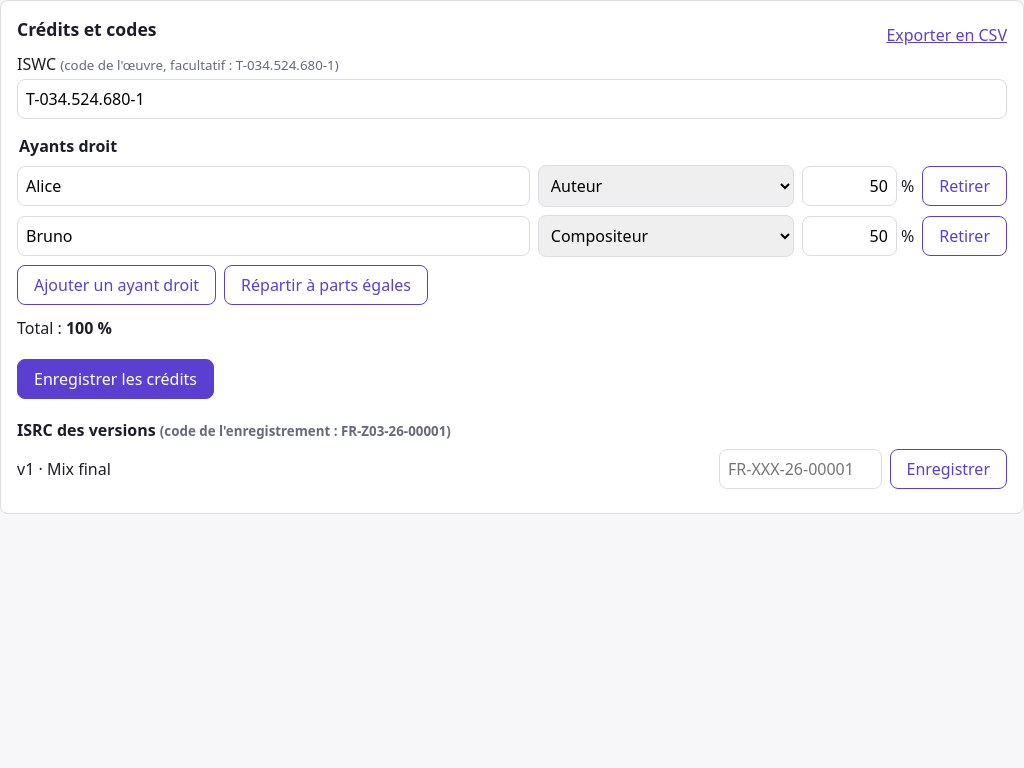
Test case: SongRightsSection › montre le refus du serveur, par exemple un ISWC dont la clé est fausse
Replace the text in the field with id "song-iswc" with "T-034.524.680-2": (512, 99) top-left (17, 79), bottom-right (1007, 119)
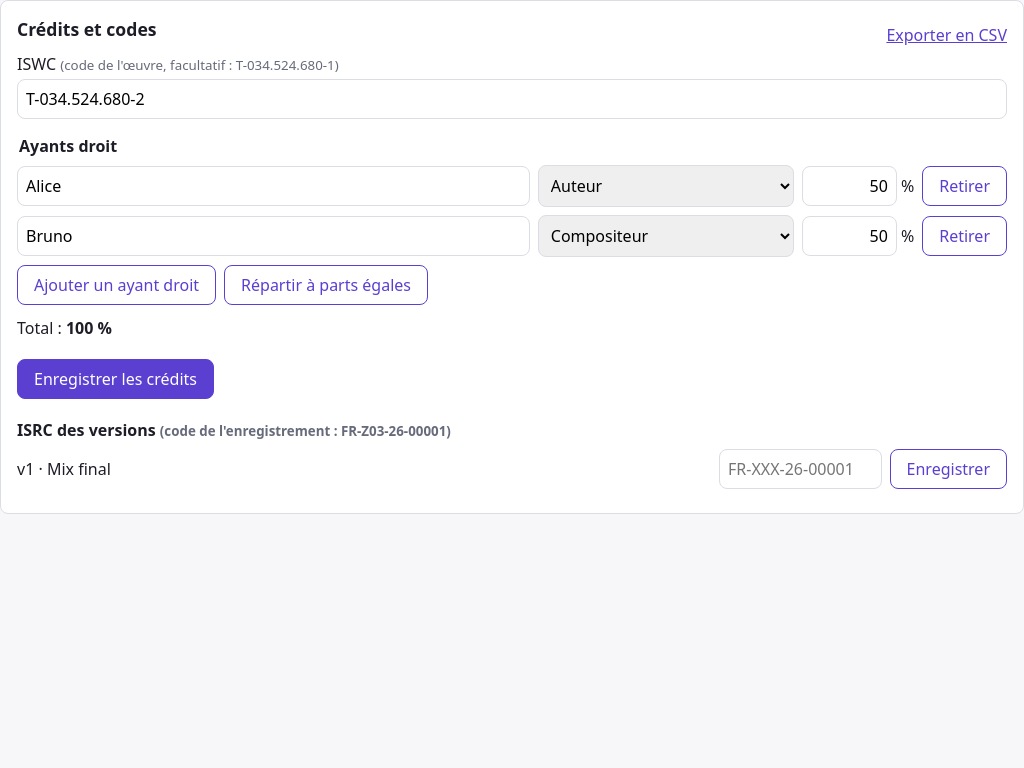
Submit the form that starts with "ISWC", box top-left (17, 53), bottom-right (1007, 399)
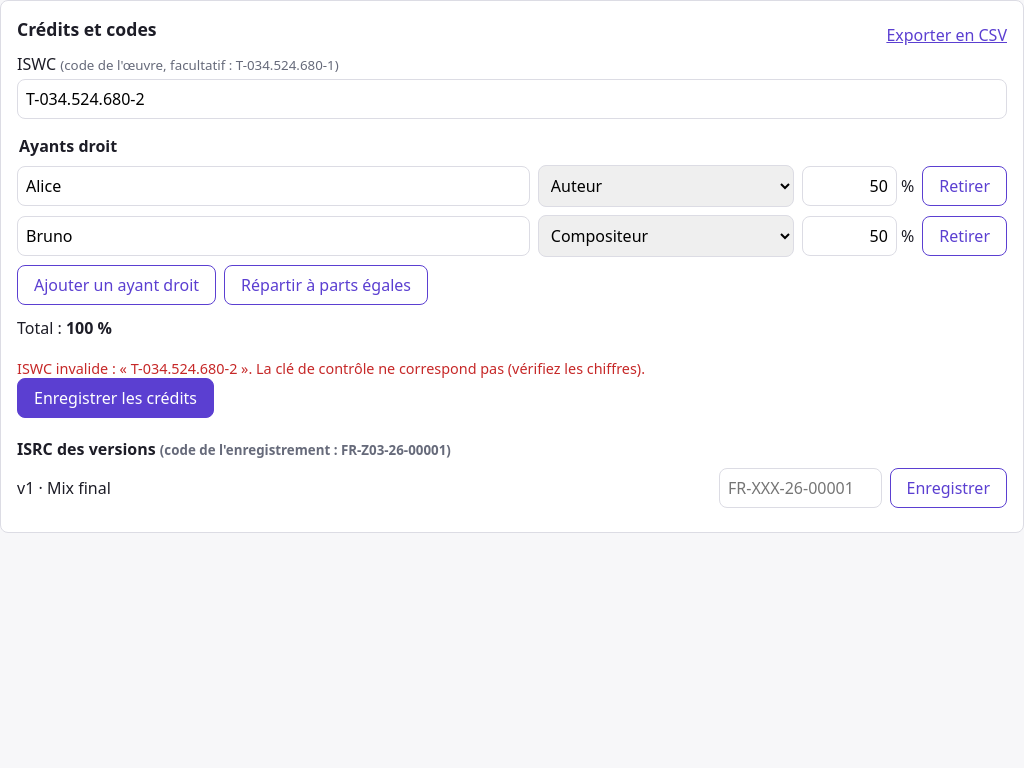
Now the 2nd message shows "La clé de contrôle ne correspond pas", box top-left (17, 359), bottom-right (645, 378)
